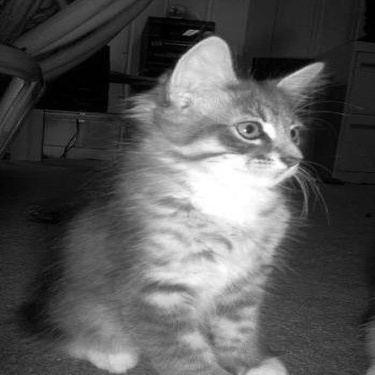cat: (44, 31, 325, 367)
